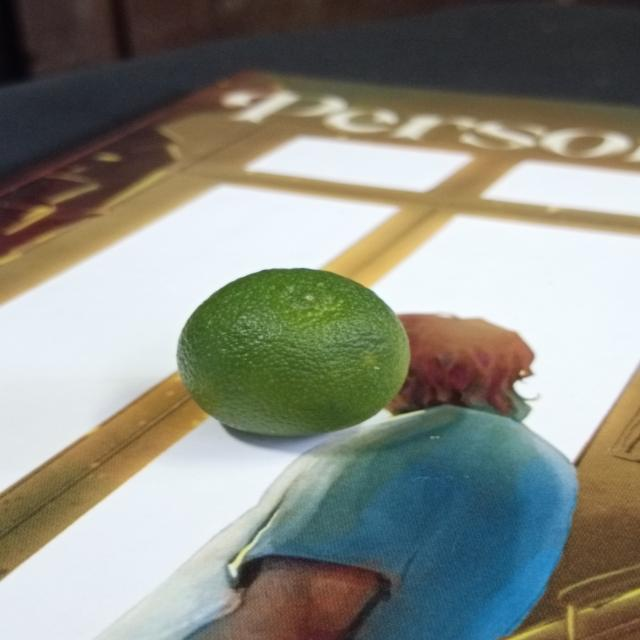heathy: (174, 261, 420, 439)
